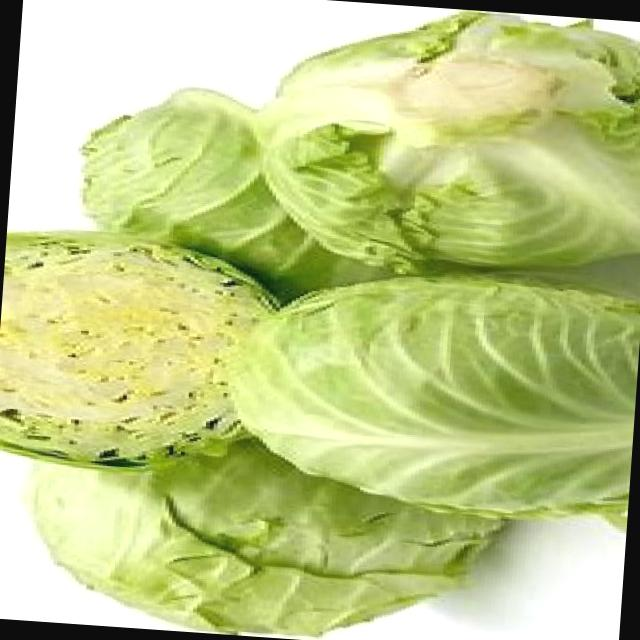cabbage: (222, 256, 640, 530), (246, 0, 640, 290), (0, 222, 277, 481)
